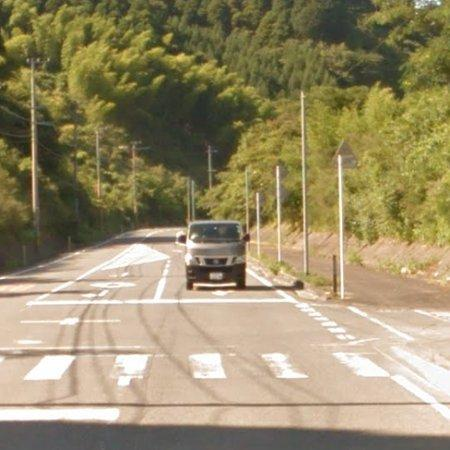crosswalks: (19, 352, 392, 382)
